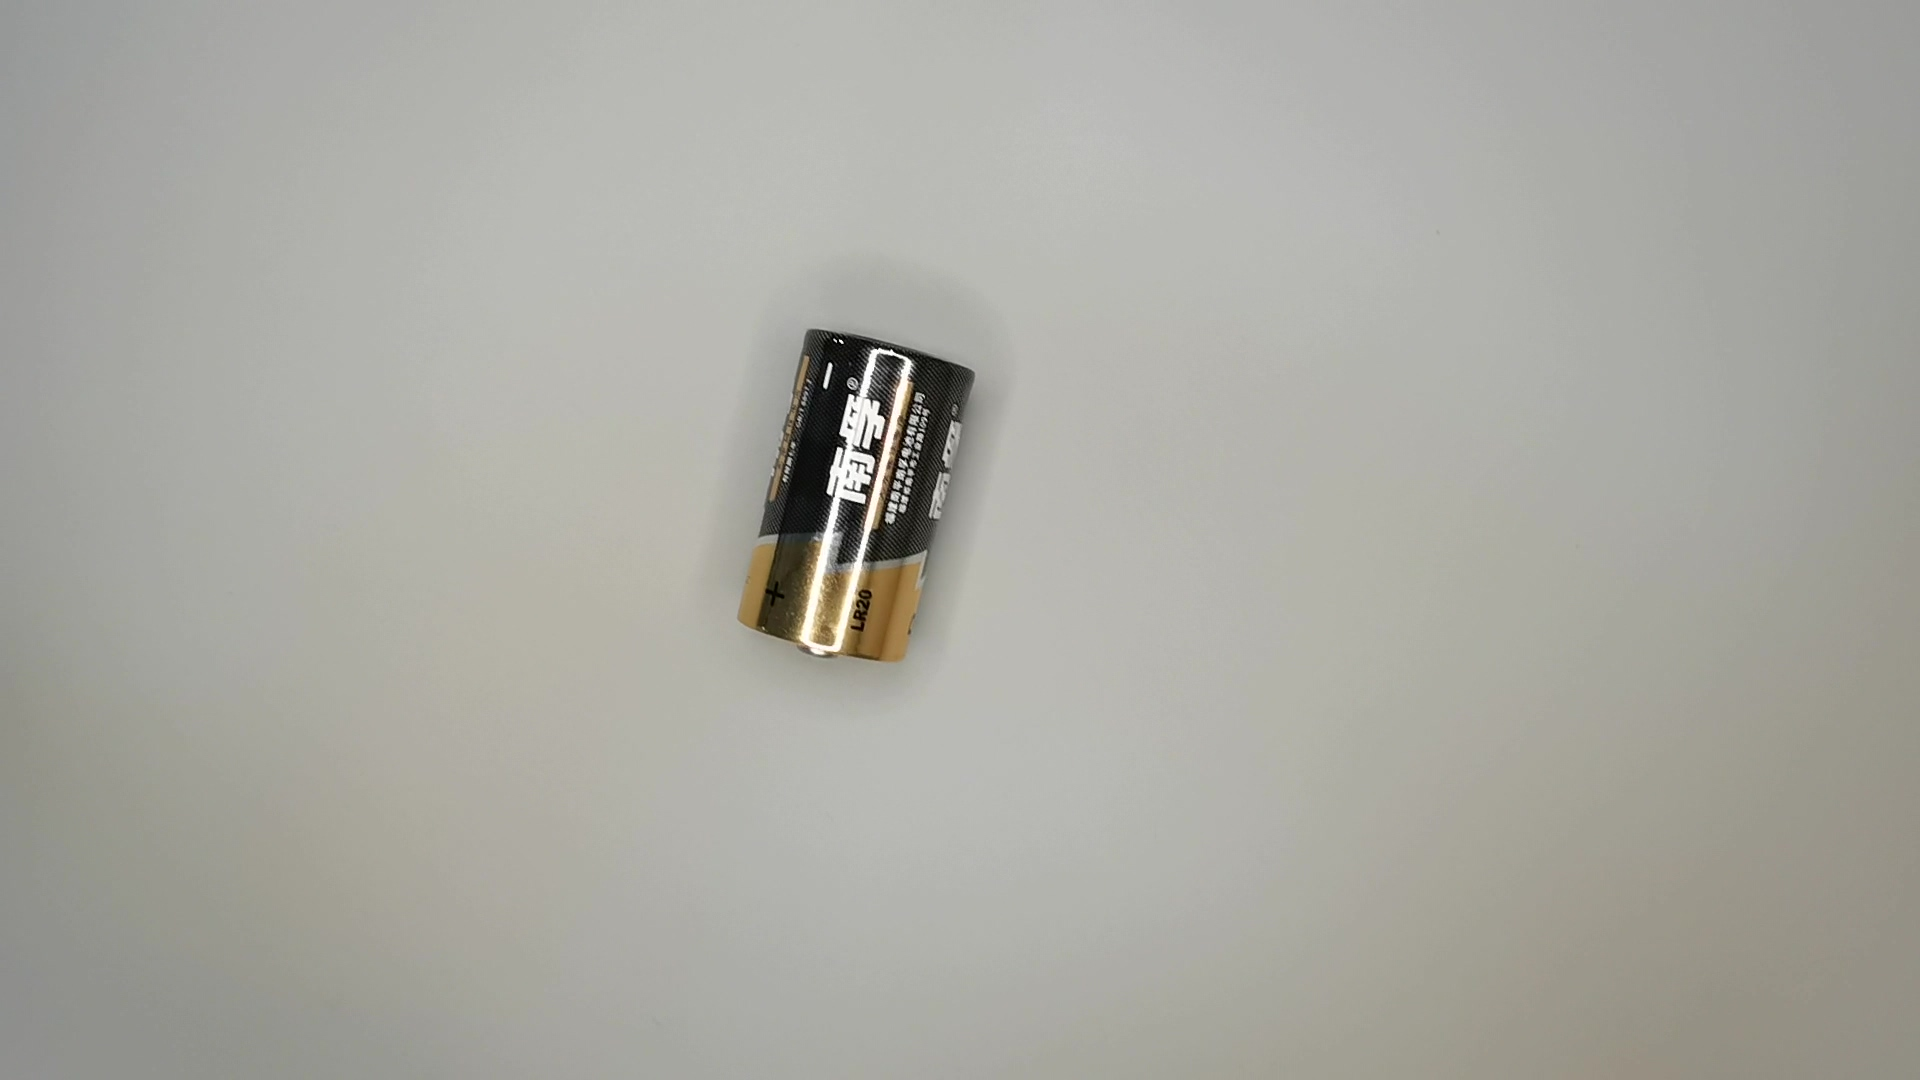battery: (713, 323, 986, 676)
